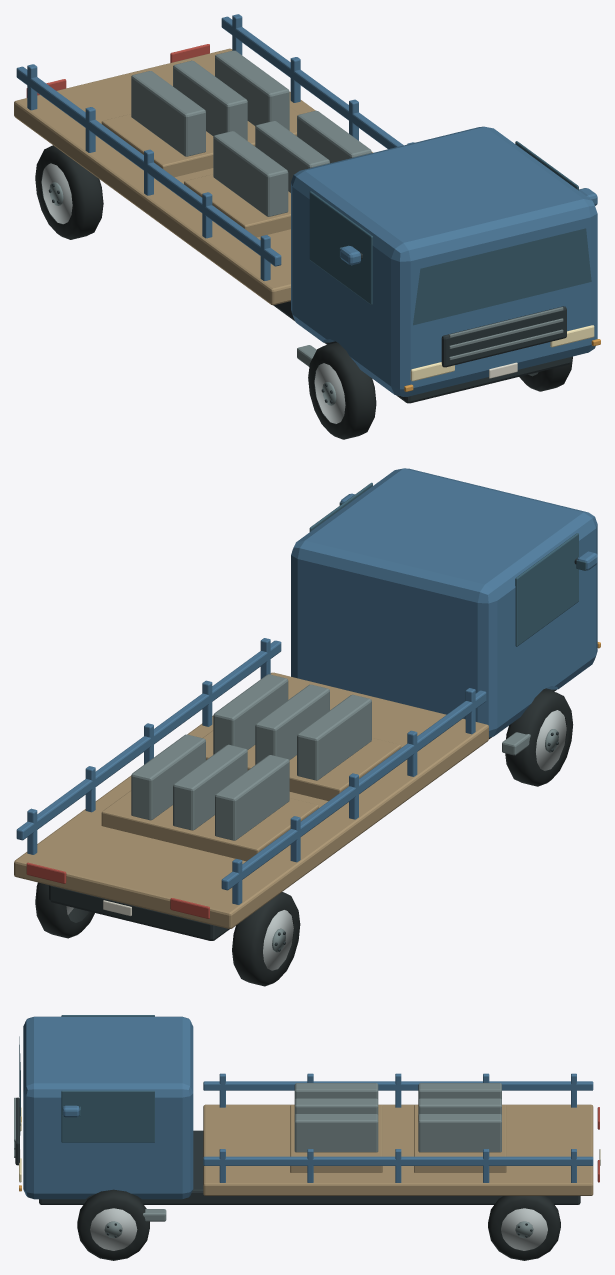
File: original-truck-flatbed-02.glb
3 views of the same model, one above another, from view 1: azimuth 30°, elevation 25°; view 2: azimuth 150°, elevation 25°; view 3: azimuth 270°, elevation 25° (orthographic). The views are drawn at different scales.
Parts seen in each view (by area): view 1: TruckCab, FlatDeck, TruckWindscreen, SteelLoad, SteelLoad.003, CabSideGlass, SideRail, Tyre_FR, Tyre_RR, SteelLoad.005, SteelLoad.004, CabGrille (+9 smaller); view 2: TruckCab, FlatDeck, Pallet.001, CabSideGlass, SteelLoad, SteelLoad.003, SideRail.001, SideRail, SteelLoad.005, SteelLoad.004, Tyre_RR, SteelLoad.002 (+7 smaller); view 3: TruckCab, FlatDeck, CabSideGlass.001, Frame, SideRail.001, SteelLoad.002, SteelLoad.005, Tyre_FL, SideRail, Tyre_RL, Pallet, Pallet.001 (+6 smaller).
Boxes of the visible parts, <box> form: TruckCab: <box>291,126,597,396</box>; FlatDeck: <box>14,48,372,305</box>; TruckWindscreen: <box>413,228,591,325</box>; SteelLoad: <box>213,131,288,216</box>; SteelLoad.003: <box>131,71,205,156</box>; CabSideGlass: <box>309,191,372,304</box>; SideRail: <box>16,66,281,266</box>; Tyre_FR: <box>308,342,376,439</box>; Tyre_RR: <box>35,145,103,239</box>; SteelLoad.005: <box>215,50,289,130</box>; SteelLoad.004: <box>173,60,247,140</box>; CabGrille: <box>441,306,566,367</box>; TruckCab: <box>291,468,597,737</box>; FlatDeck: <box>14,672,488,928</box>; Pallet.001: <box>101,790,318,861</box>; CabSideGlass: <box>515,533,578,646</box>; SteelLoad: <box>297,694,371,780</box>; SteelLoad.003: <box>215,755,289,840</box>; SideRail.001: <box>16,640,281,840</box>; SideRail: <box>221,690,486,890</box>; SteelLoad.005: <box>131,734,205,820</box>; SteelLoad.004: <box>173,744,247,830</box>; Tyre_RR: <box>232,892,300,986</box>; SteelLoad.002: <box>213,674,288,754</box>; TruckCab: <box>23,1016,193,1199</box>; FlatDeck: <box>203,1104,593,1195</box>; CabSideGlass.001: <box>61,1090,154,1142</box>; Frame: <box>39,1130,580,1204</box>; SideRail.001: <box>203,1156,593,1165</box>; SteelLoad.002: <box>294,1114,378,1152</box>; SteelLoad.005: <box>418,1114,501,1152</box>; Tyre_FL: <box>77,1189,149,1260</box>; SideRail: <box>203,1081,593,1090</box>; Tyre_RL: <box>488,1196,560,1260</box>; Pallet: <box>290,1104,382,1172</box>; Pallet.001: <box>414,1104,506,1172</box>.
Size of the model in its own units: 2.8 by 2.45 by 7.59.
